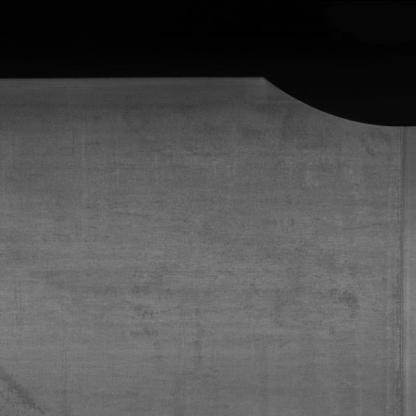crescent_gap: (224, 67, 416, 129)
